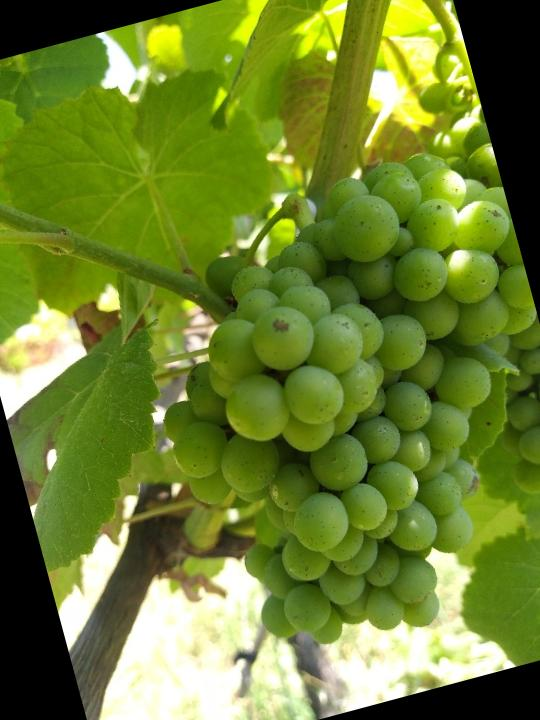grape: (108, 132, 540, 681)
